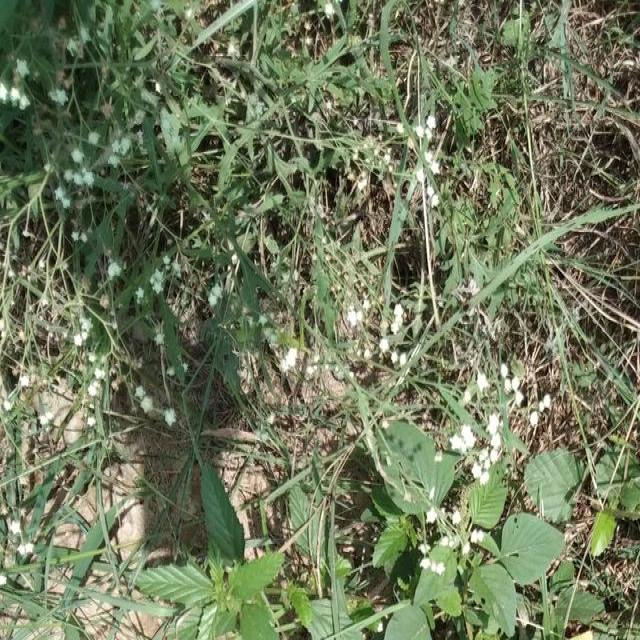weed: (35, 53, 279, 411), (368, 439, 598, 640), (116, 485, 295, 640)
